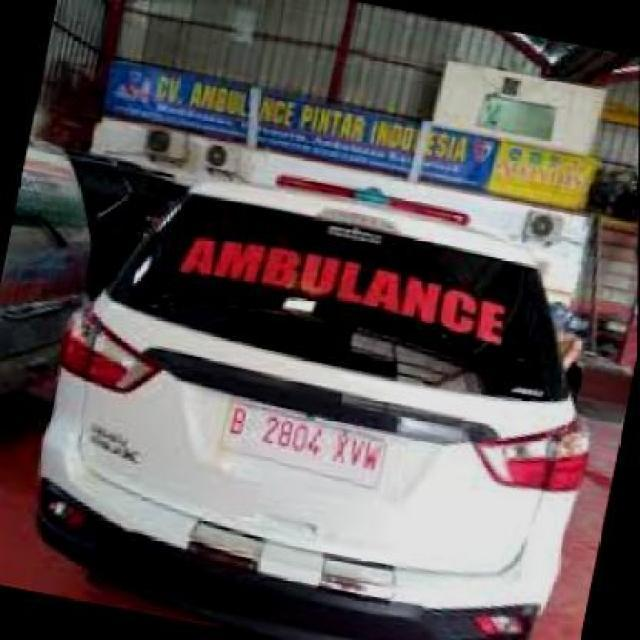emergency-vehicle: (13, 137, 632, 640)
